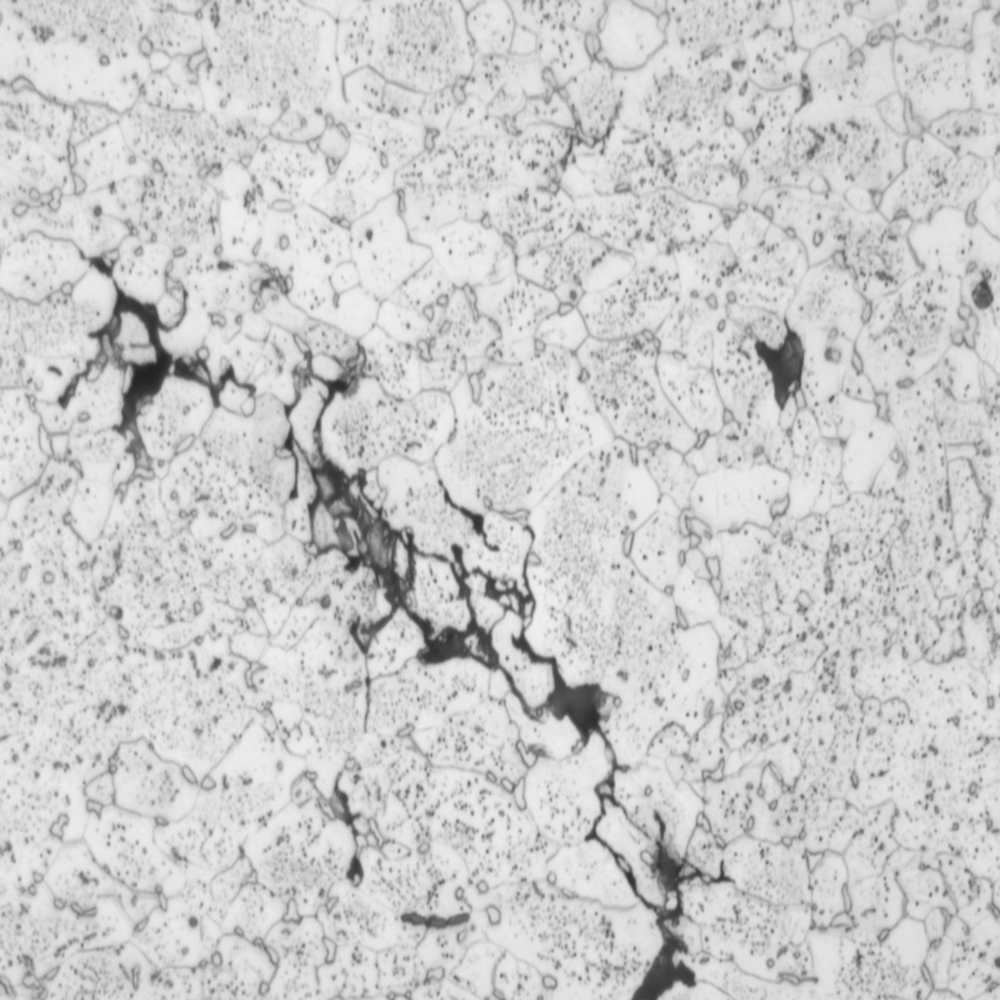crack: (23, 225, 764, 1000)
